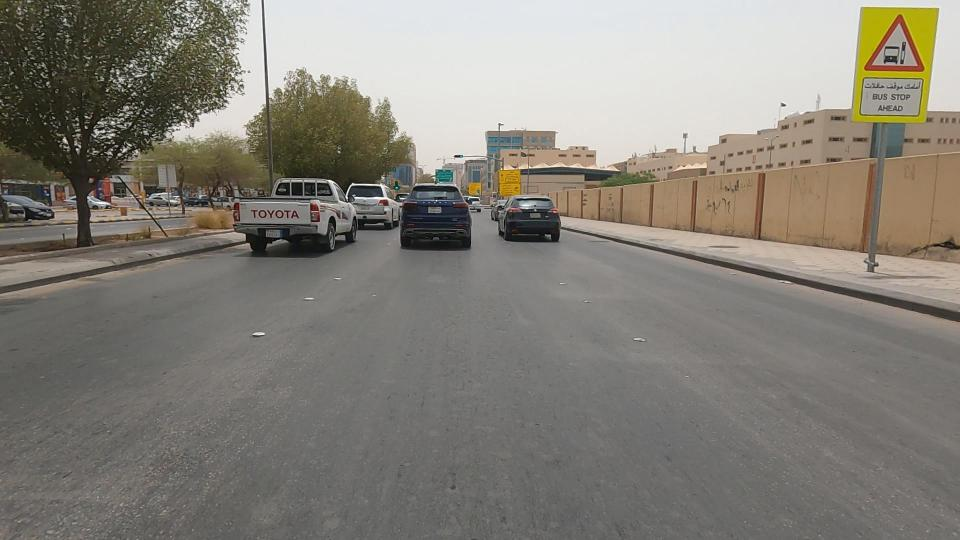GRAFFITI: (676, 142, 773, 257)
